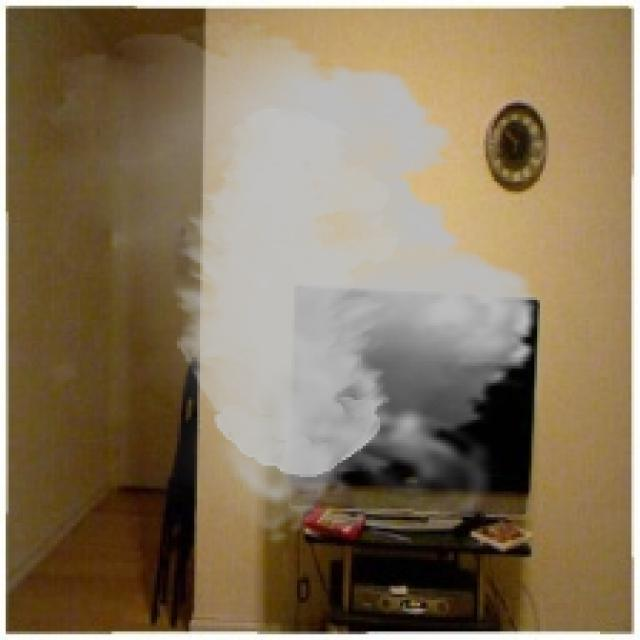Smoke: (25, 23, 558, 546)
